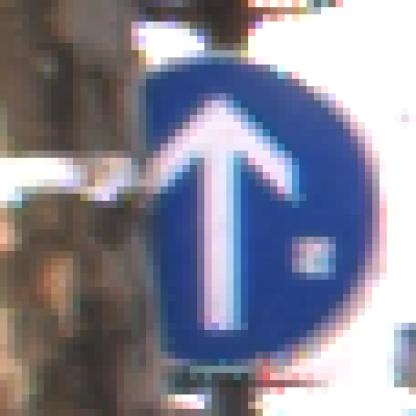AheadOnly: (45, 44, 380, 381)
